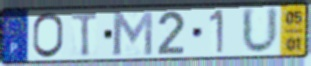1: (208, 8, 225, 56)
2: (156, 9, 189, 57)
M: (110, 10, 155, 57)
O: (31, 11, 65, 61)
T: (70, 11, 100, 59)
U: (240, 5, 281, 57)
